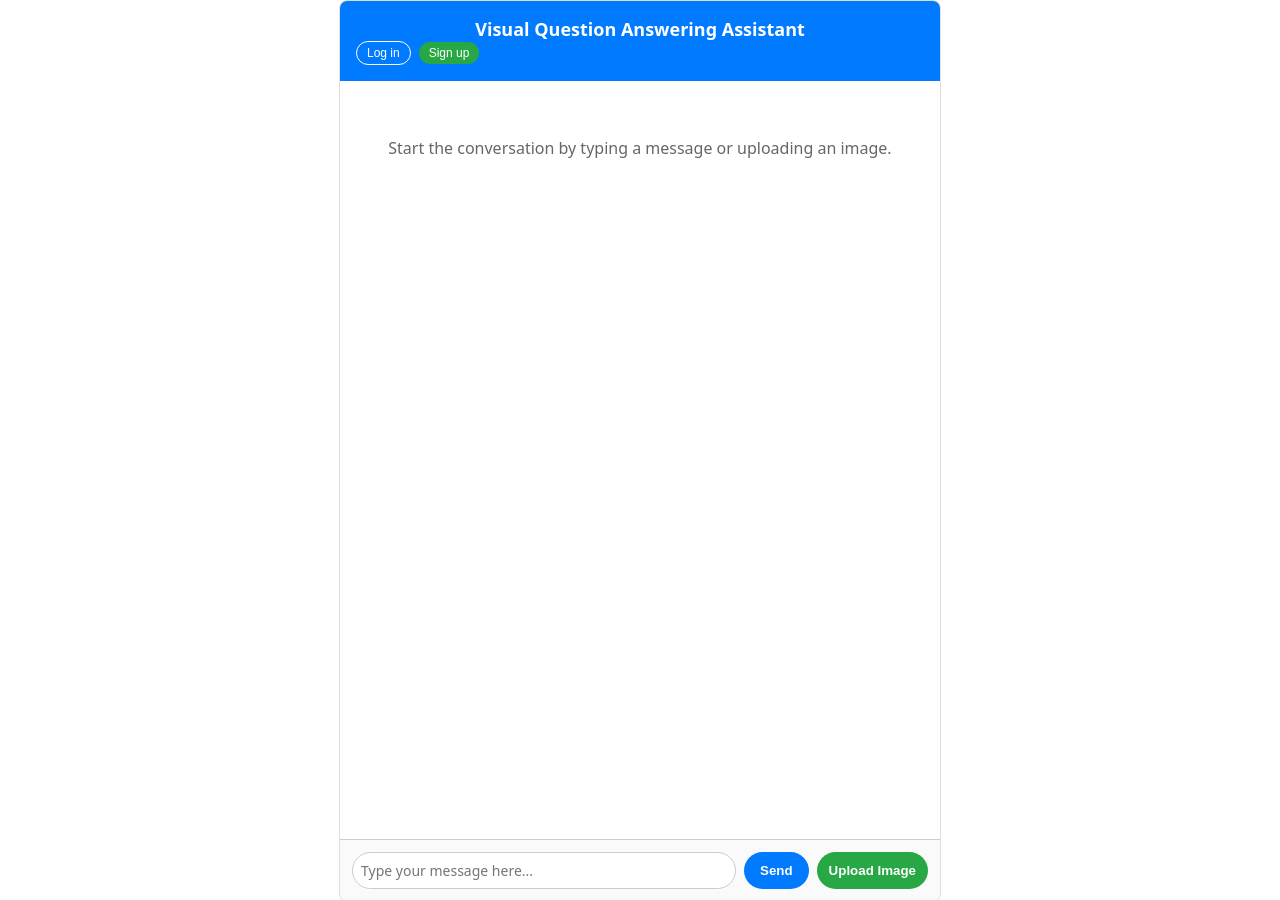
Test: User Authentication › clicking login button opens login modal
Click the button with test id "header-login" at (383, 53), box [356,41,411,65]
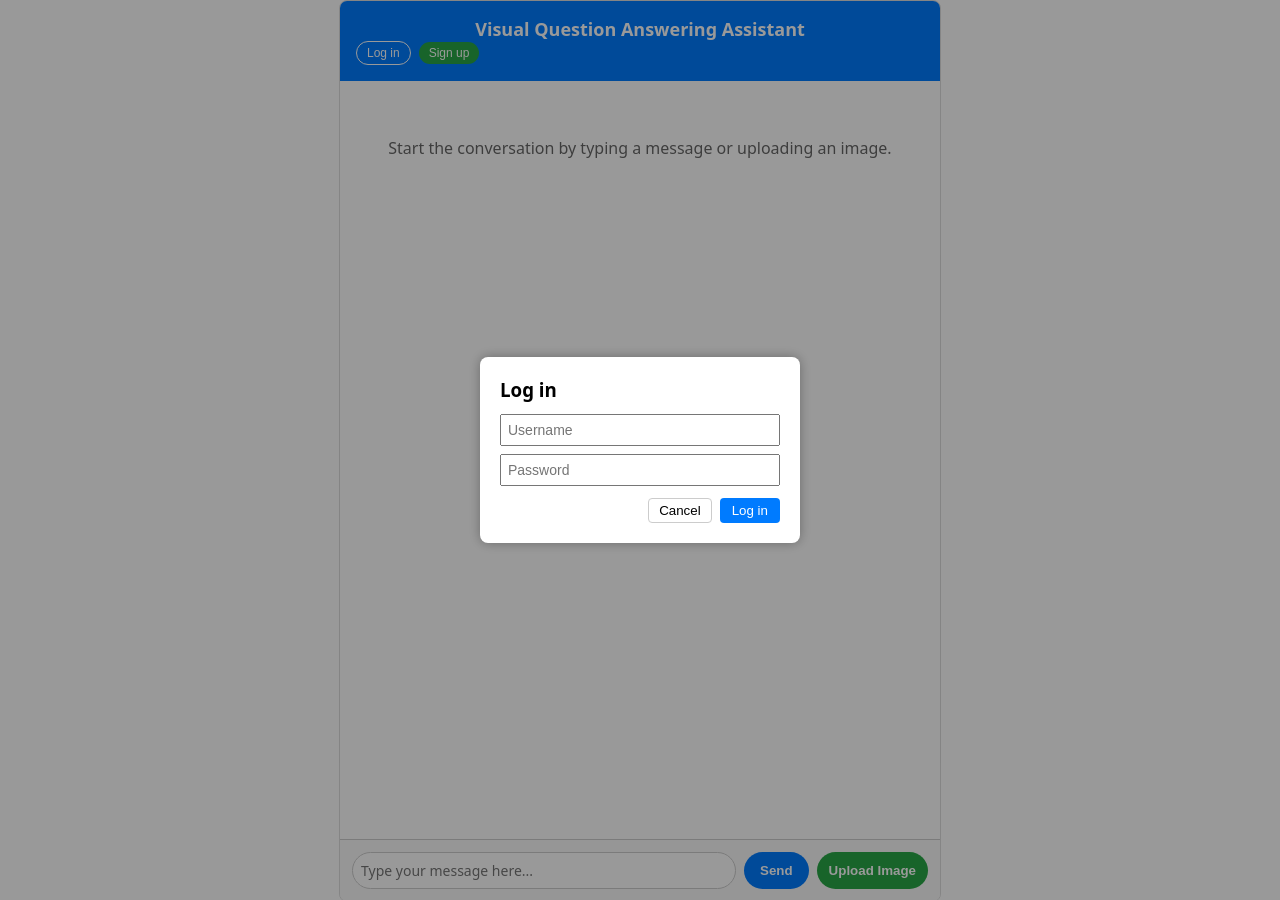
Expected: the field with placeholder "Username" is shown, [500,414,780,446]
Expected: the password field with placeholder "Password" is shown, [500,454,780,486]
